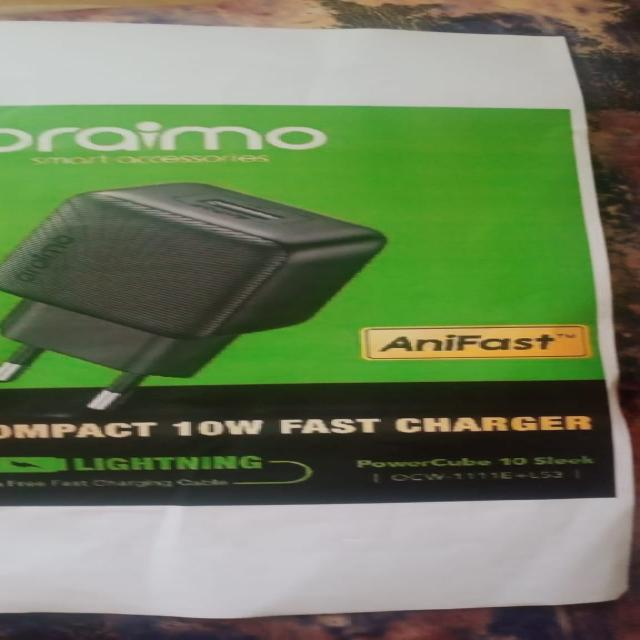PowerCube 10 Sleek OCW-1111ExL53: (331, 453, 624, 487)
